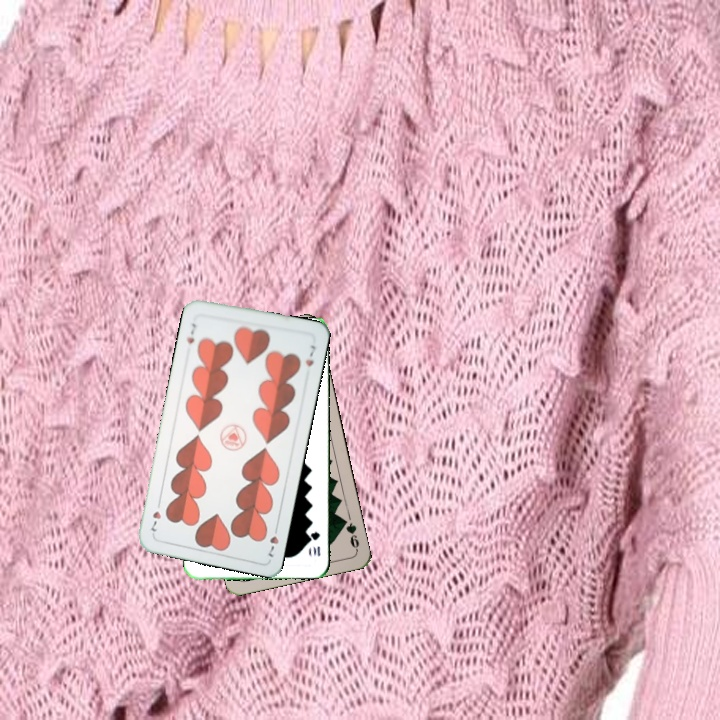G10: (307, 528, 322, 558)
G9: (338, 514, 362, 553)
H7: (264, 521, 281, 560), (183, 319, 199, 347)
